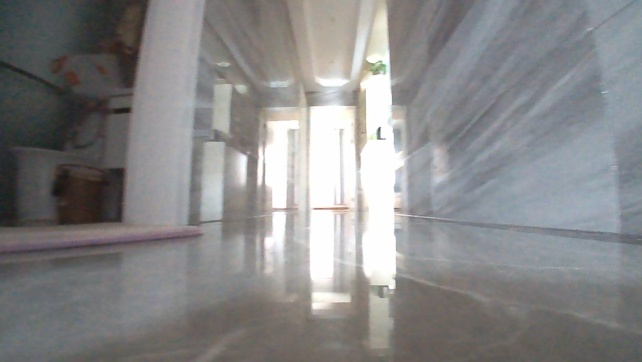blanket: (0, 218, 206, 256)
toilet: (5, 106, 105, 225)
